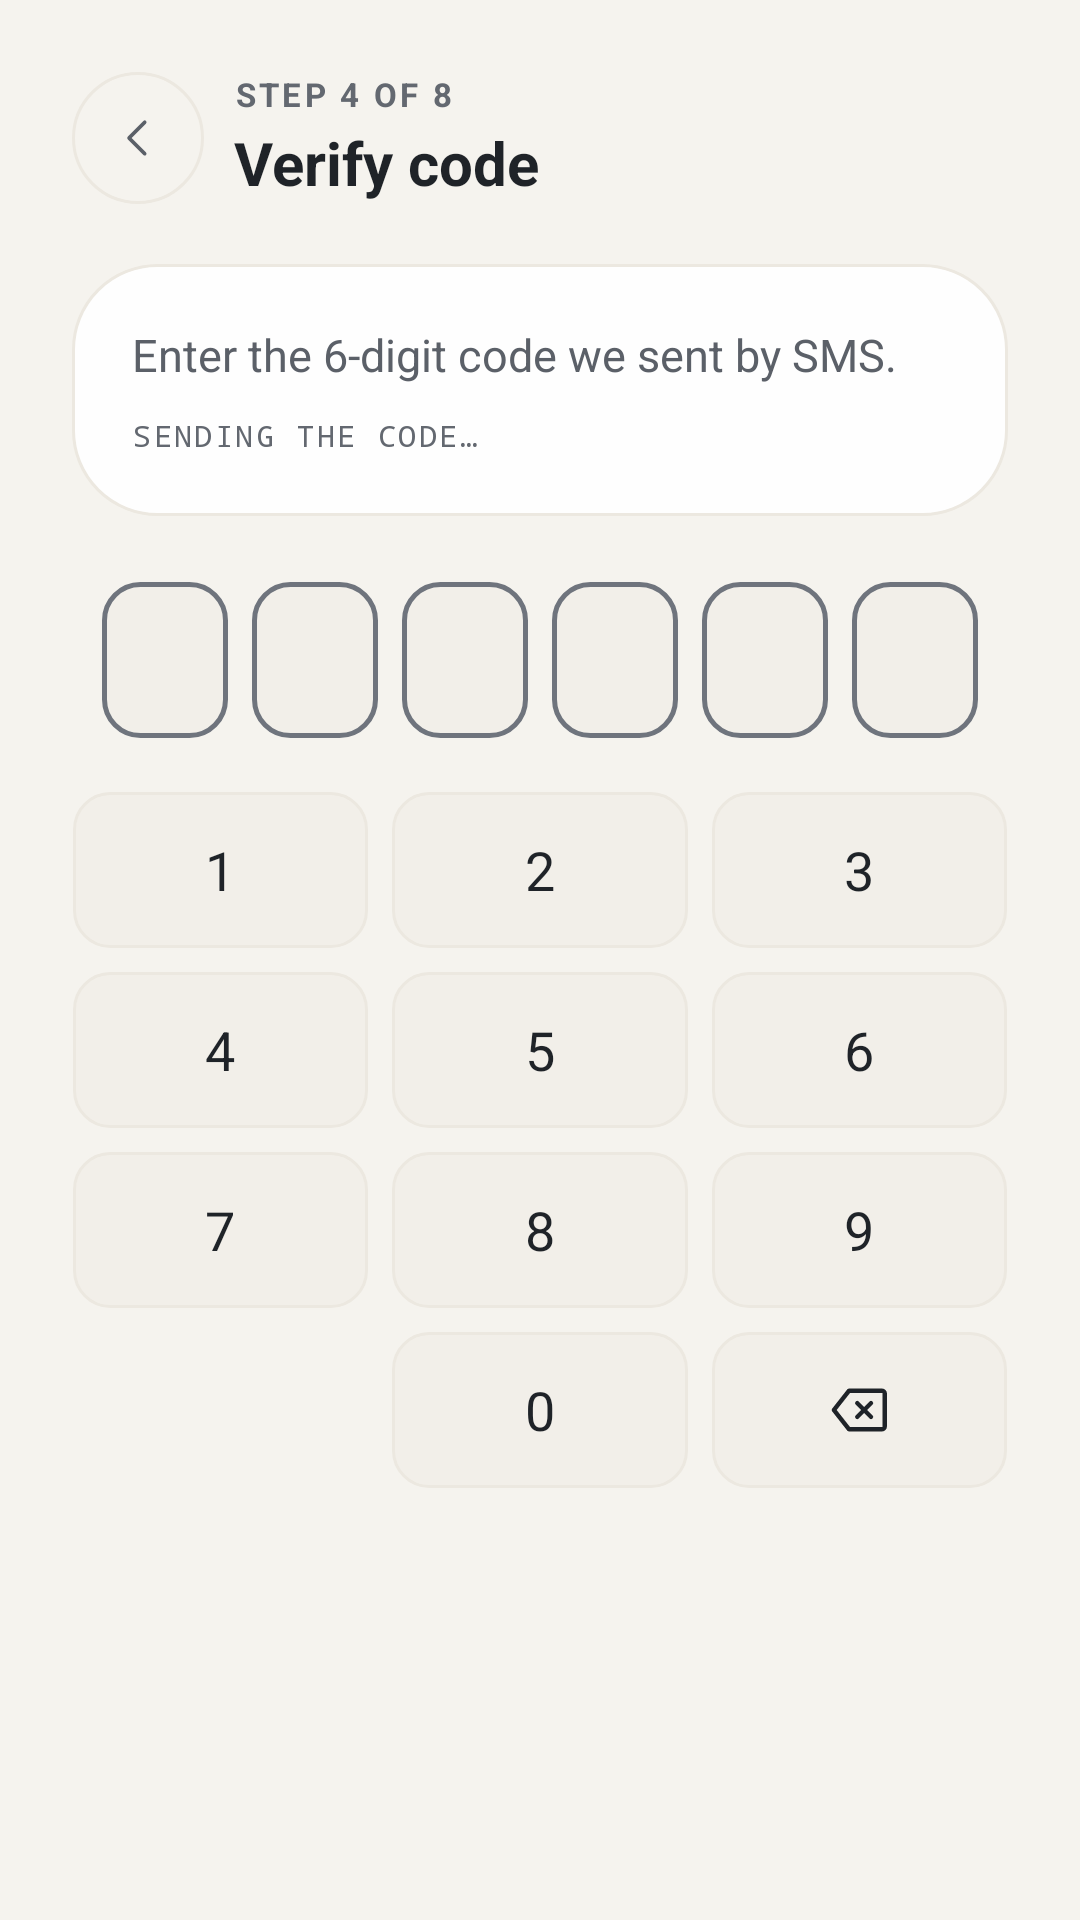

Icons on this 1080px×1920px Android screen, each with its box as (x1, y1, x2, y2):
Back: (127, 120, 147, 156)
Delete: (831, 1388, 887, 1432)
